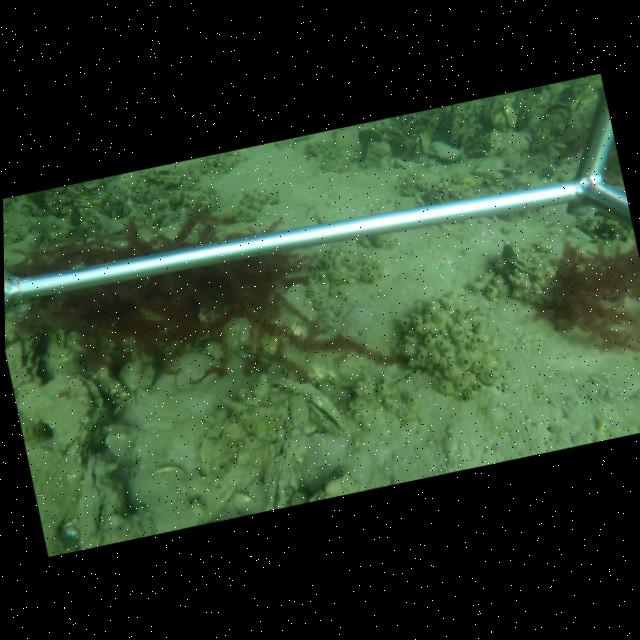Oyster-Closed: (20, 371, 107, 468), (76, 454, 114, 550), (263, 455, 305, 511), (487, 129, 529, 155), (429, 141, 461, 163)
Oyster-Indeterminate: (119, 356, 157, 392)
Oyster-Open: (304, 384, 346, 434)
